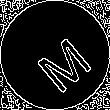M_NW: (21, 21, 89, 89)
